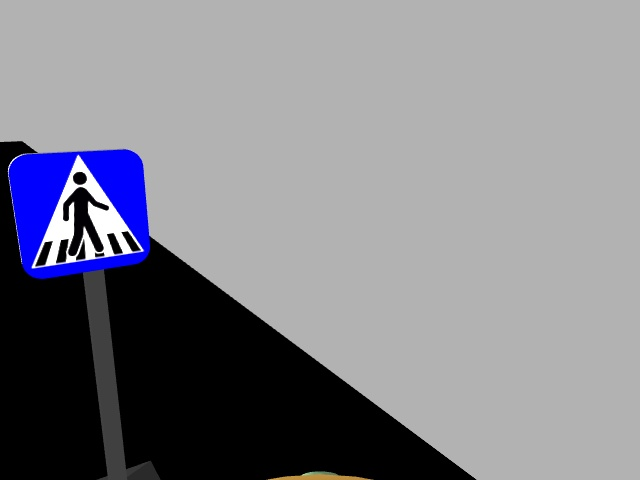Crosswalk: (3, 144, 151, 278)
